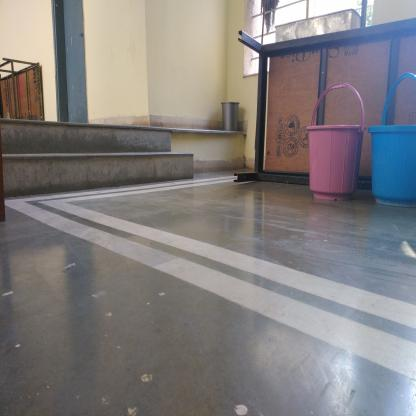stairs: (7, 120, 168, 194)
